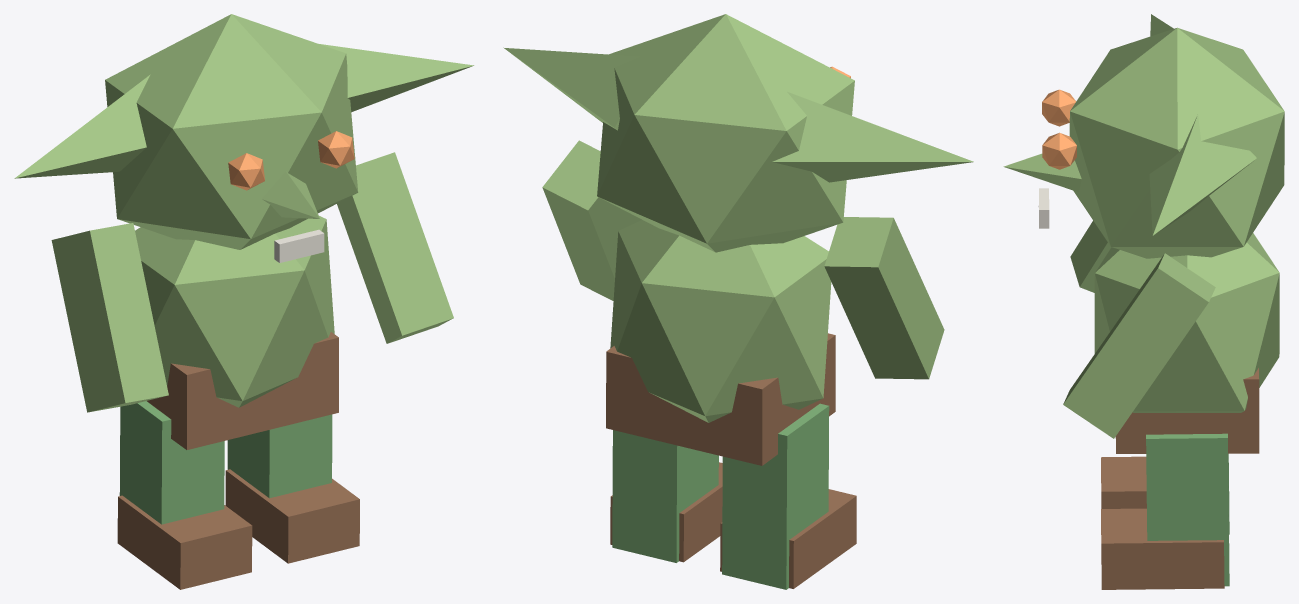
File: npcpose_goblin_attack_11.glb
The picture shows the model from 3 angles, left to right: view 1: azimuth 30°, elevation 25°; view 2: azimuth 150°, elevation 25°; view 3: azimuth 270°, elevation 25°; orthographic projection. The views are drawn at different scales.
Visible parts, largest first — view 1: npcpose; view 2: npcpose; view 3: npcpose.
Part boxes in pixels (x1,y1,x2,y2): npcpose: (14, 14, 474, 589); npcpose: (503, 14, 973, 589); npcpose: (1003, 14, 1284, 589).
Size of the model in its own units: 1.03 by 1.12 by 0.5506.
